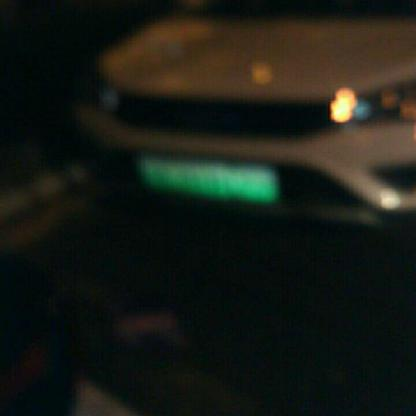lp: (138, 157, 274, 201)
